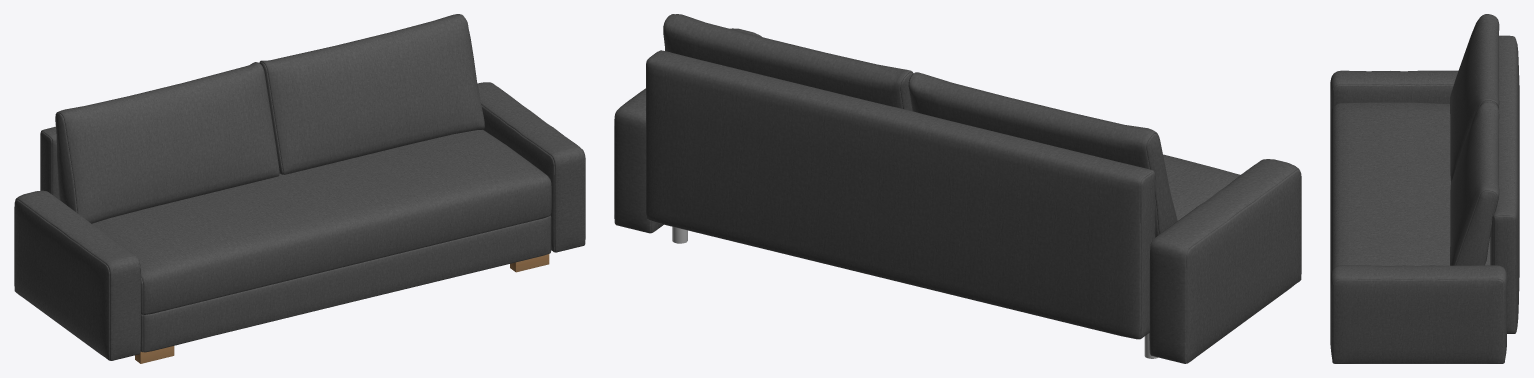
File: gralviken_sofa_3_osobowa_rozkadana_40445392.glb
3 renders of one model, left to right at view 1: azimuth 30°, elevation 25°; view 2: azimuth 150°, elevation 25°; view 3: azimuth 270°, elevation 25°, orthographic. The views are drawn at different scales.
Visible parts, largest first — view 1: gralviken_sofa_3_osobowa_rozkadana_40445392; view 2: gralviken_sofa_3_osobowa_rozkadana_40445392; view 3: gralviken_sofa_3_osobowa_rozkadana_40445392.
Part boxes in pixels (left/top/right/bottom): gralviken_sofa_3_osobowa_rozkadana_40445392: left=14, top=14, right=585, bottom=363; gralviken_sofa_3_osobowa_rozkadana_40445392: left=614, top=14, right=1301, bottom=363; gralviken_sofa_3_osobowa_rozkadana_40445392: left=1330, top=14, right=1519, bottom=363.
Bounding box in the file's own units: 2.27 × 0.8607 × 0.8629.
1 material, 1 textured.
